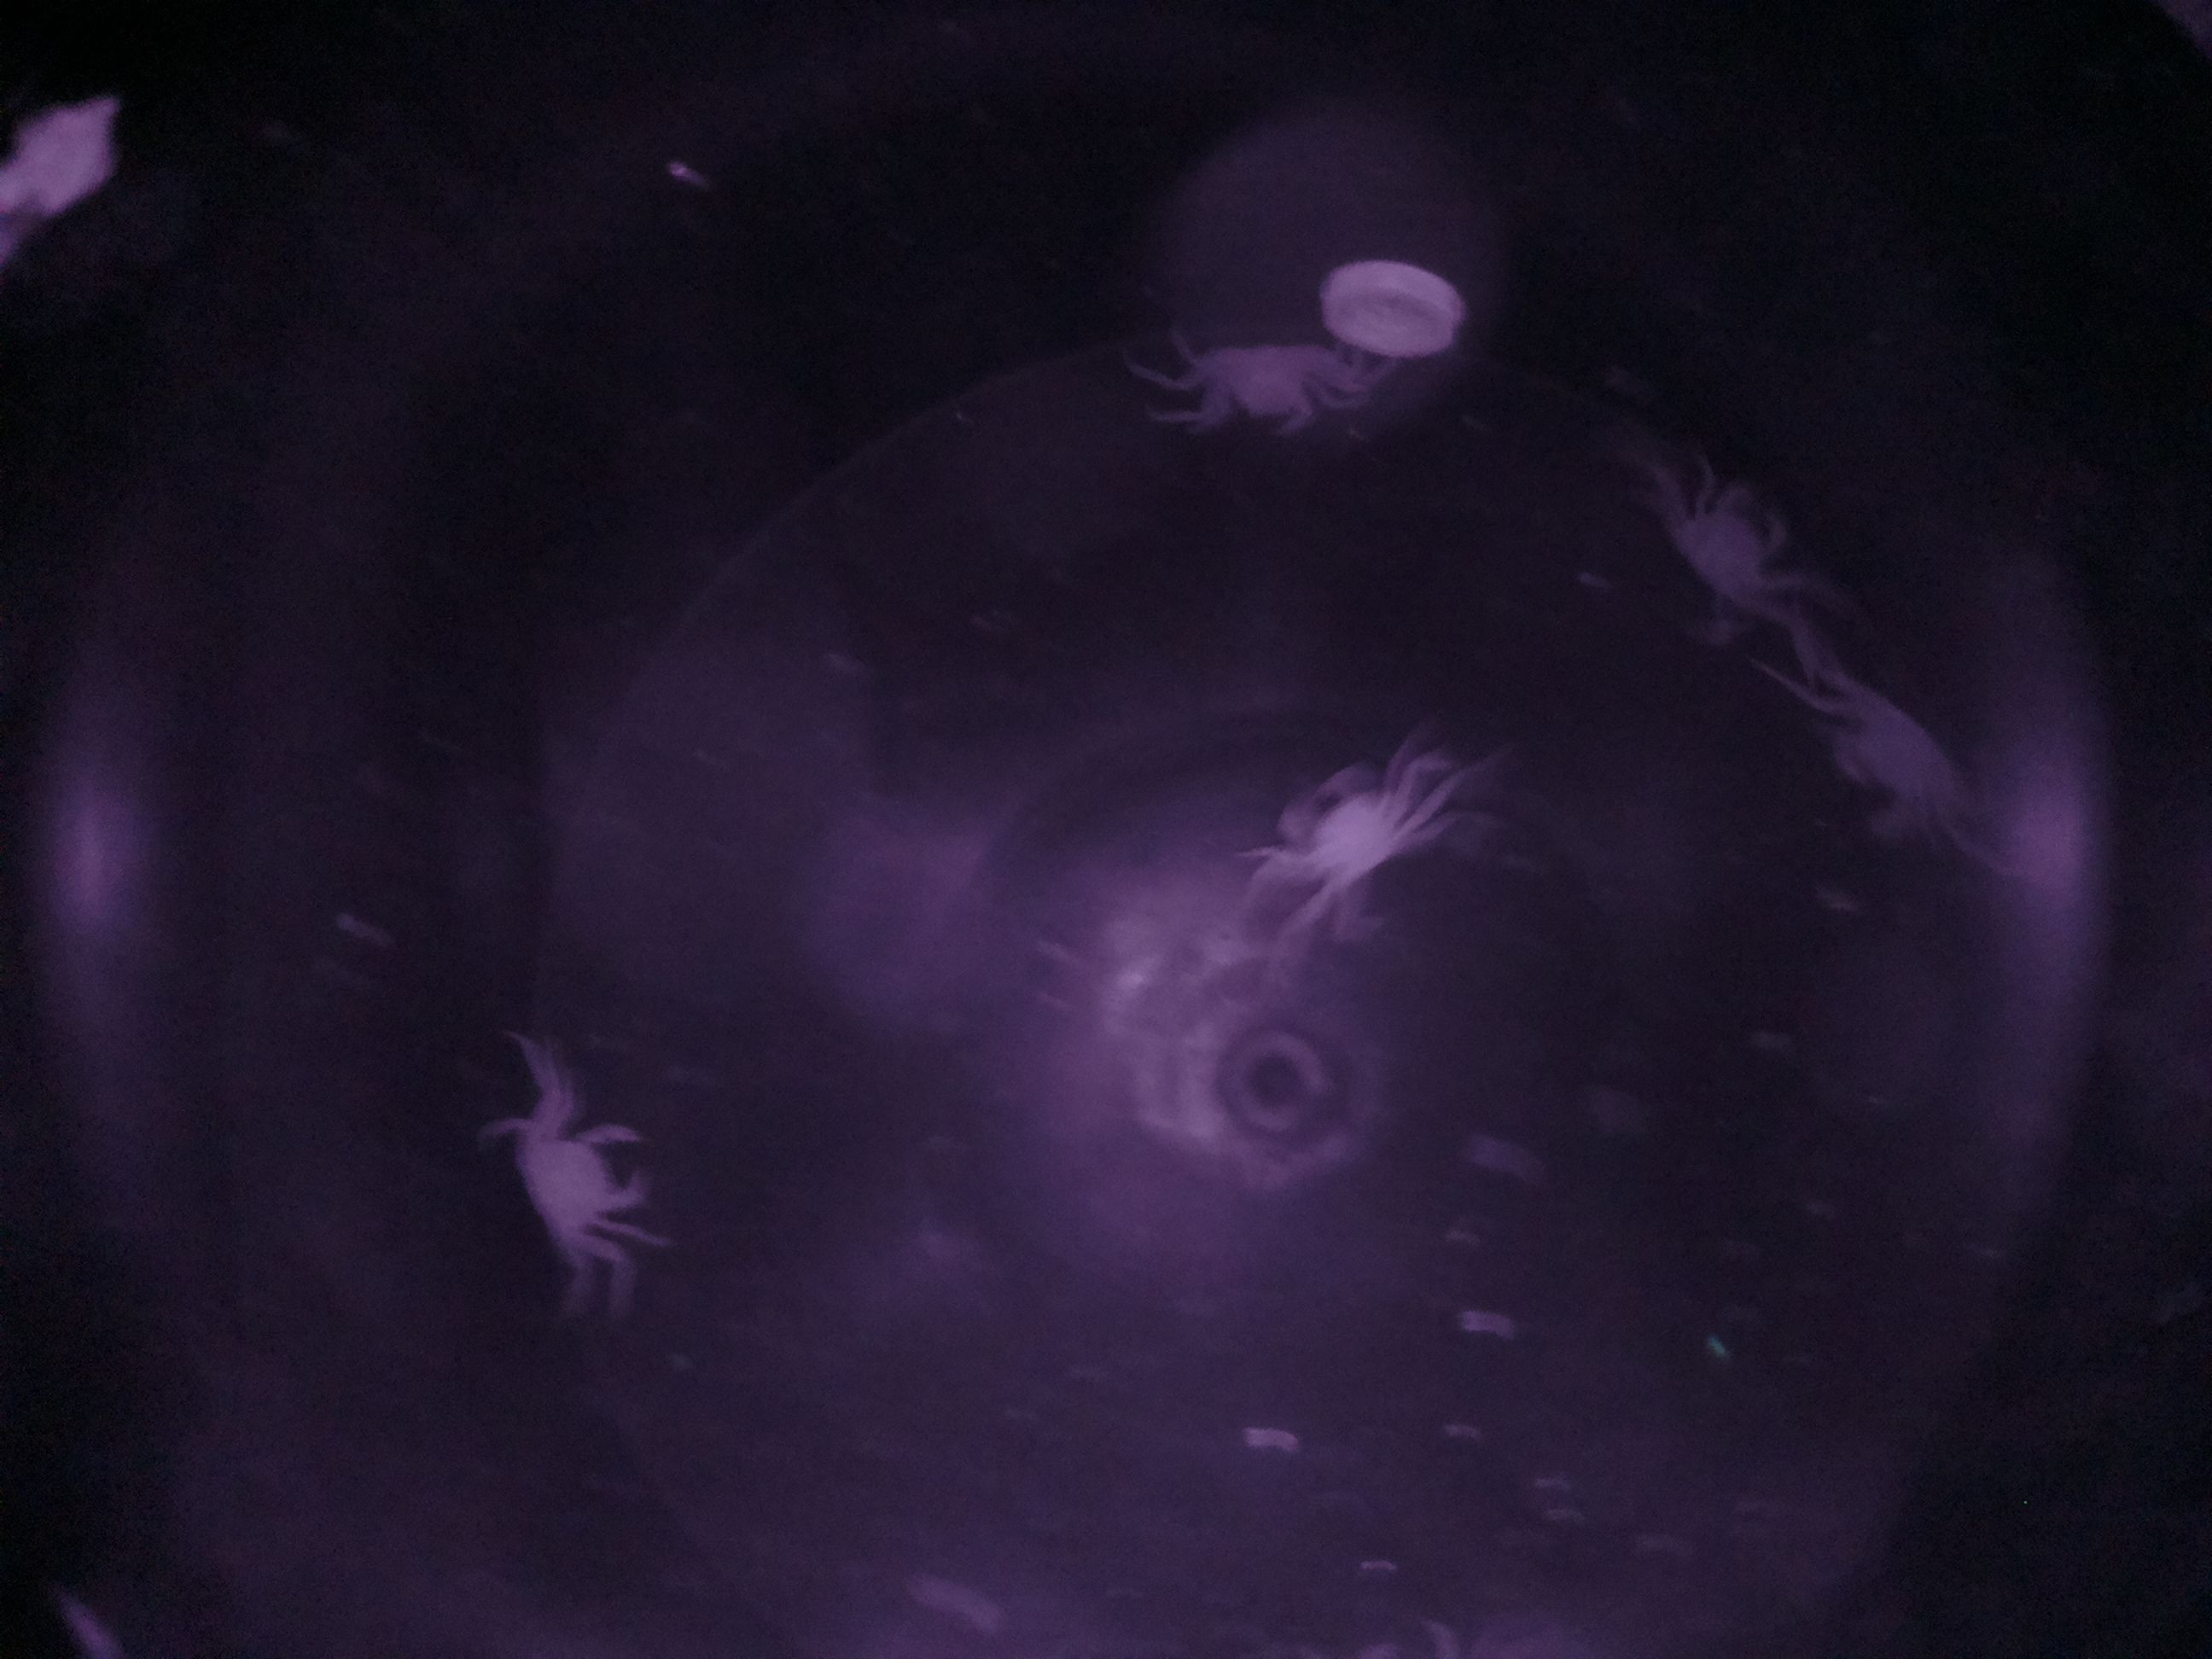Crab: (482, 1096, 674, 1263), (1632, 465, 1804, 633)
